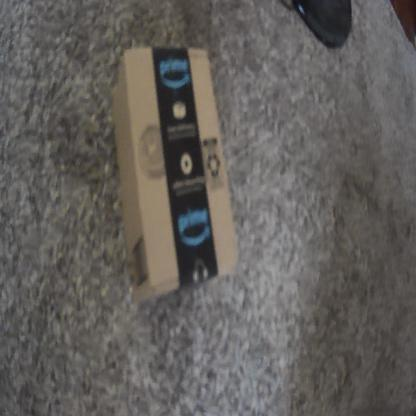package: (107, 43, 243, 311)
